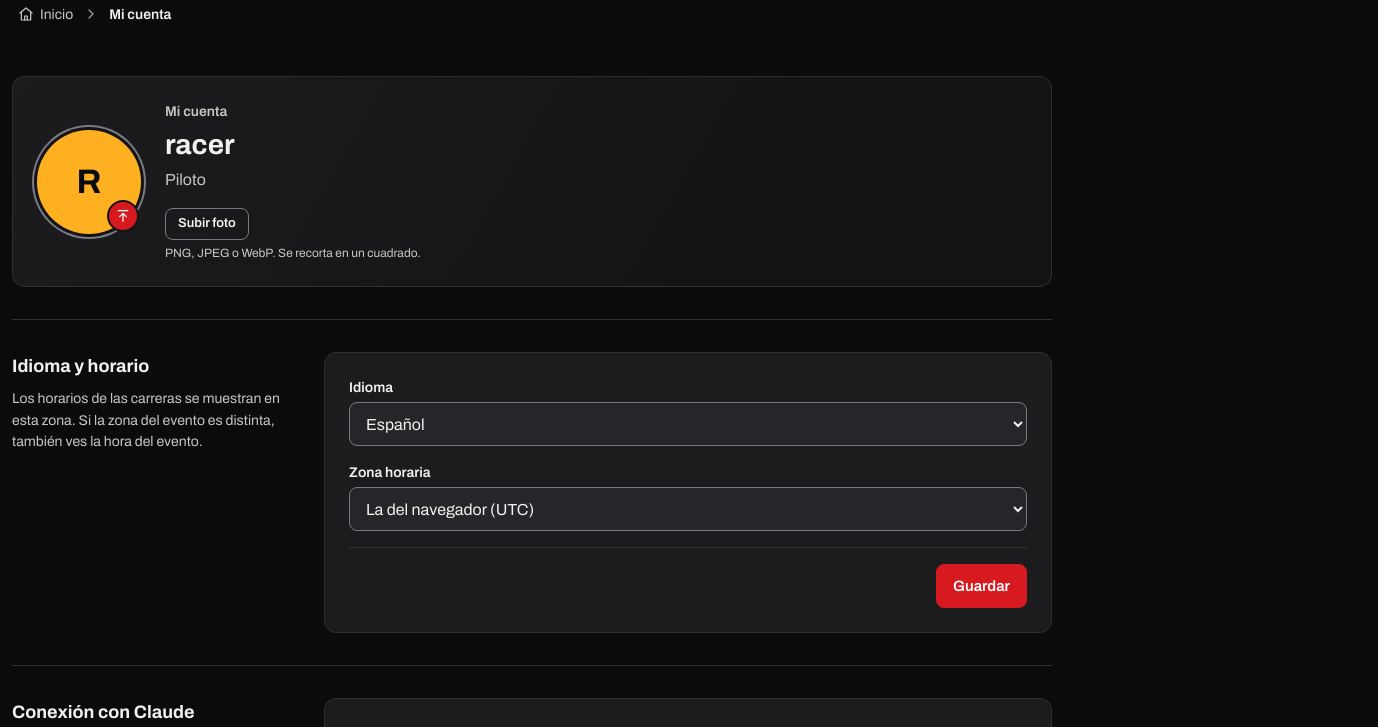
Test: AccountPage › changes the language and the timezone
Select "English" in the dropdown labelled "Idioma" at (688,424), box [349,402,1027,446]
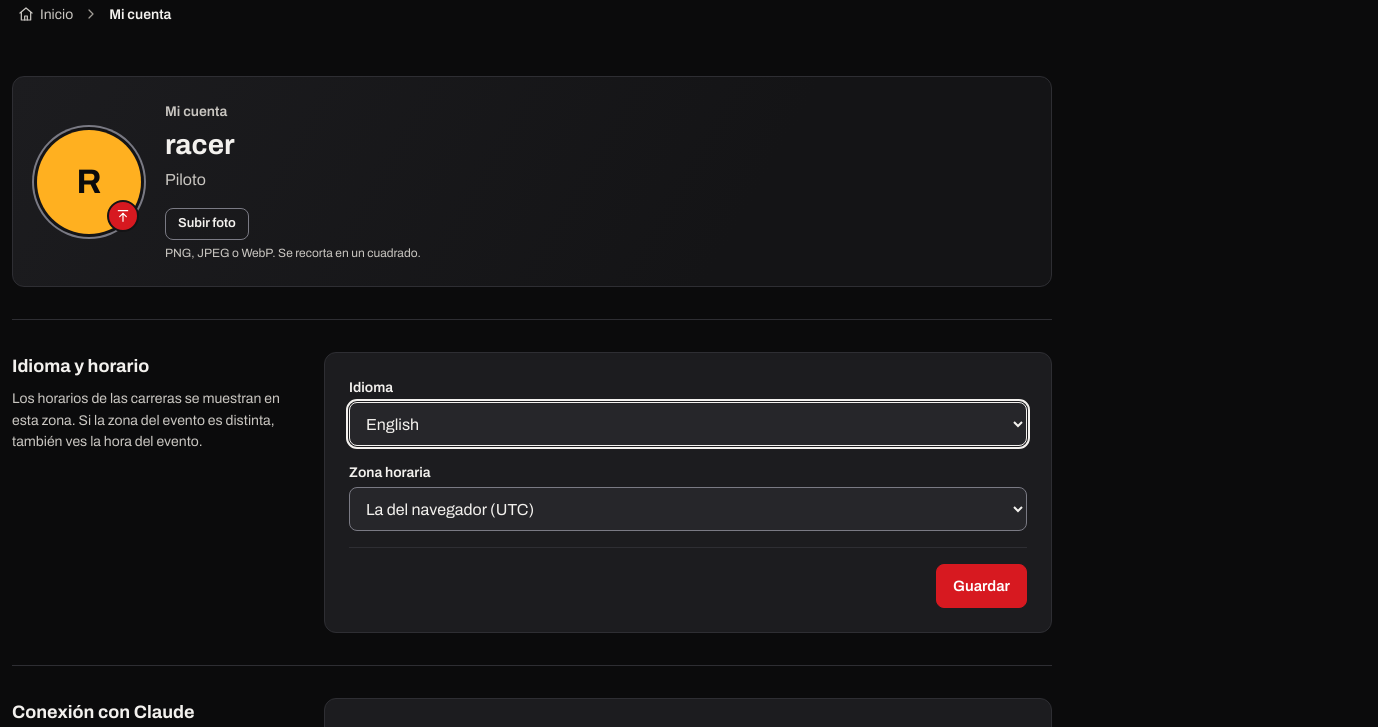
Select "Europe/Madrid" in the dropdown labelled "Zona horaria" at (688,509), box [349,487,1027,531]
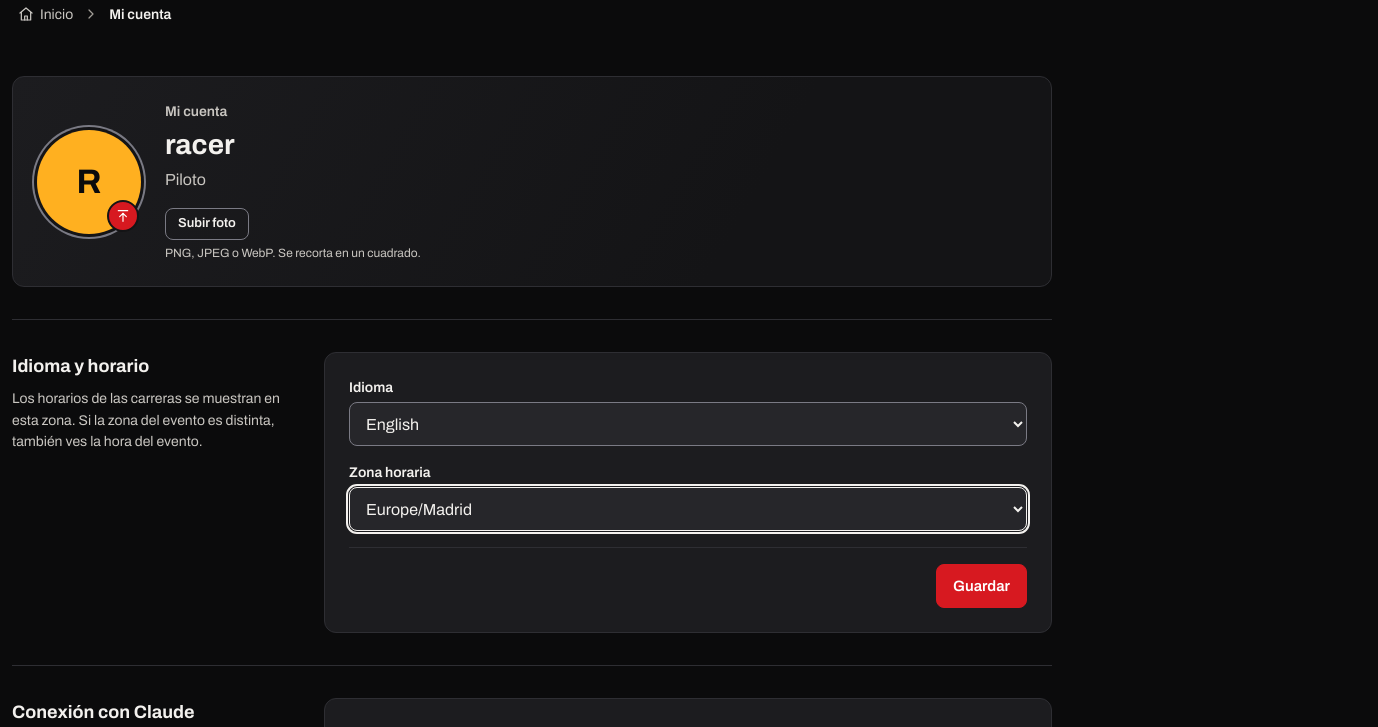
Click the button "Guardar" at (982,586), box [936,564,1027,608]
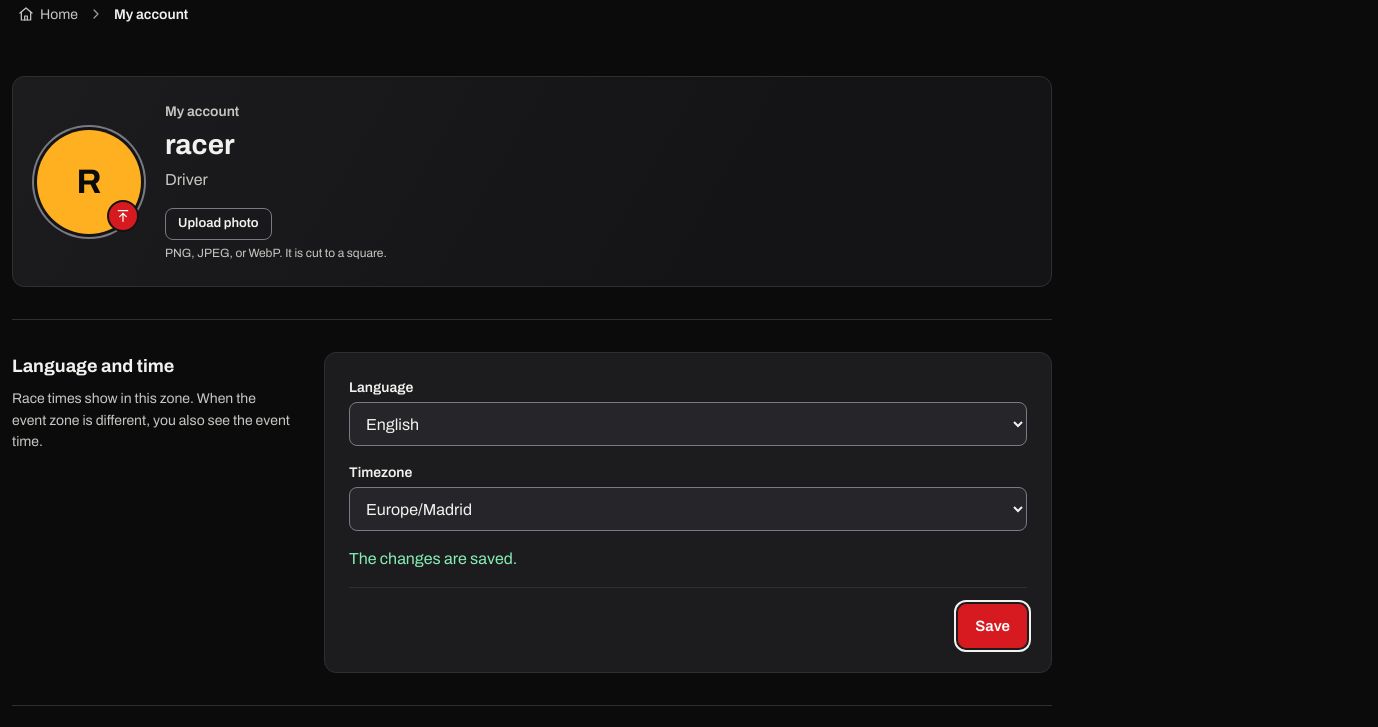
Expected: the message reads "The changes are saved.", [349,550,517,567]
